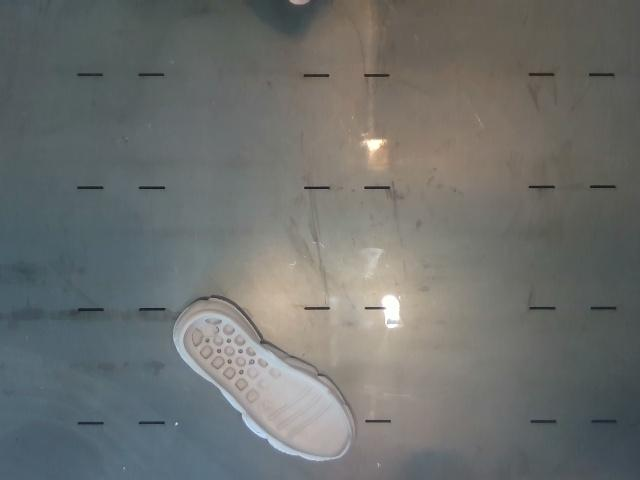shoes: (183, 314, 351, 458)
